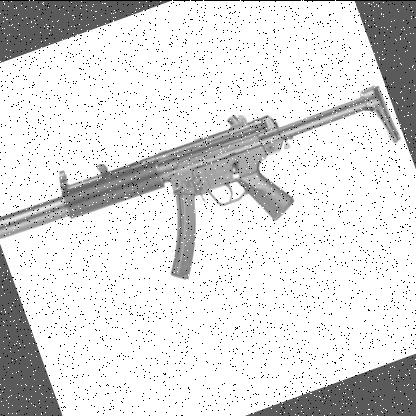rifle: (0, 34, 416, 336)
